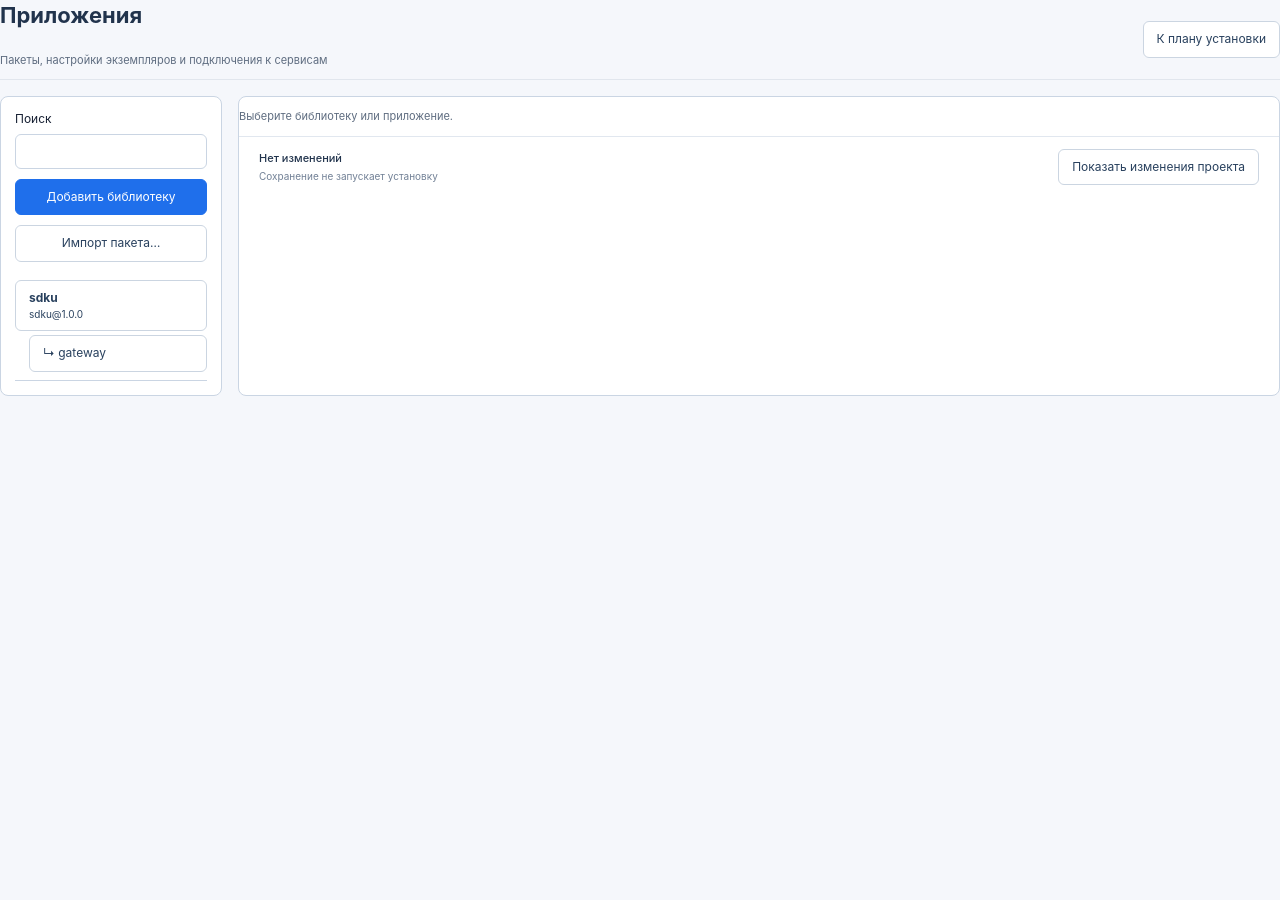
application editor › retains application package ENV declarations while common defaults await Core verification
Click the button "↳ gateway": (118, 353) [29, 335, 207, 372]
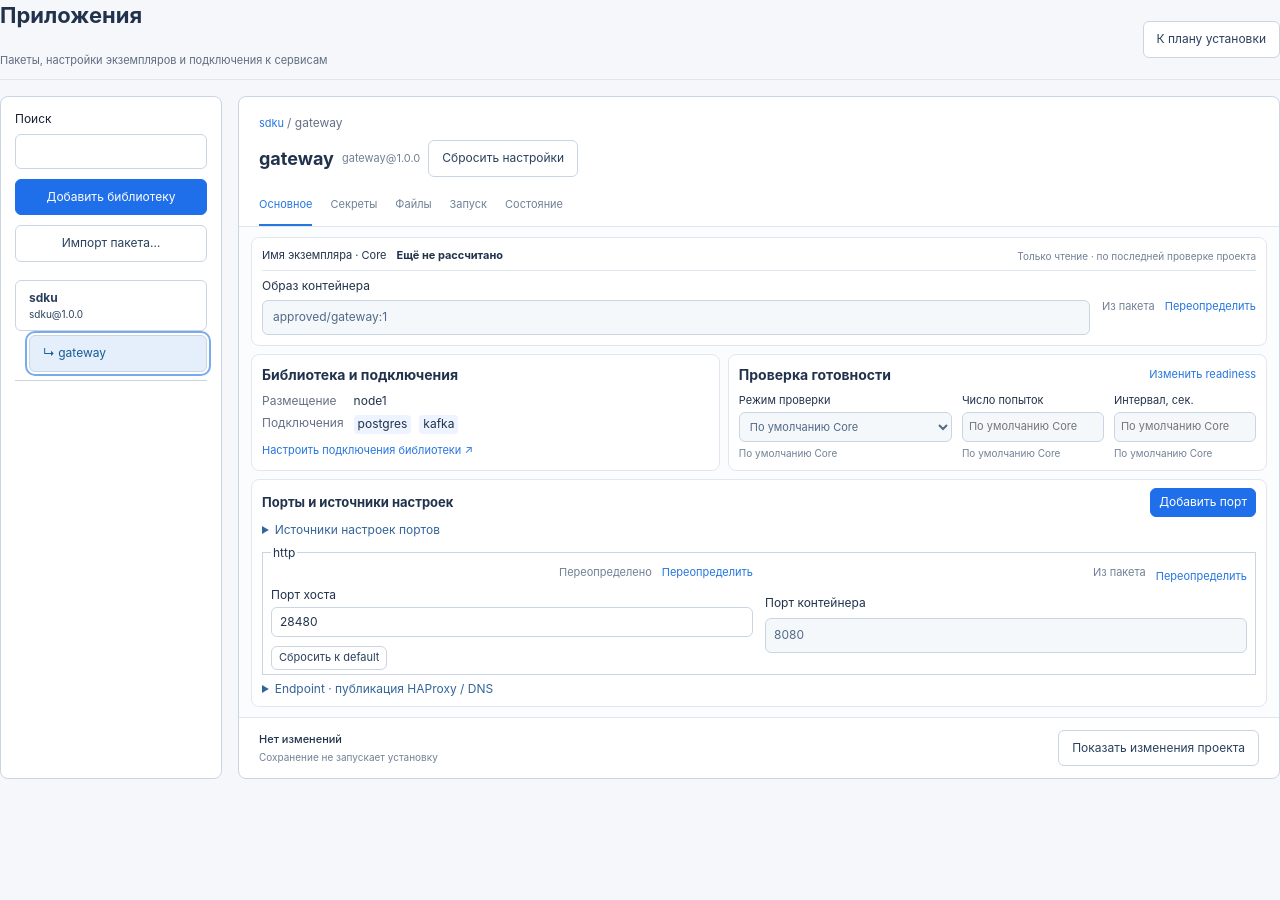
Click the button "Запуск": (468, 205) [450, 185, 487, 226]
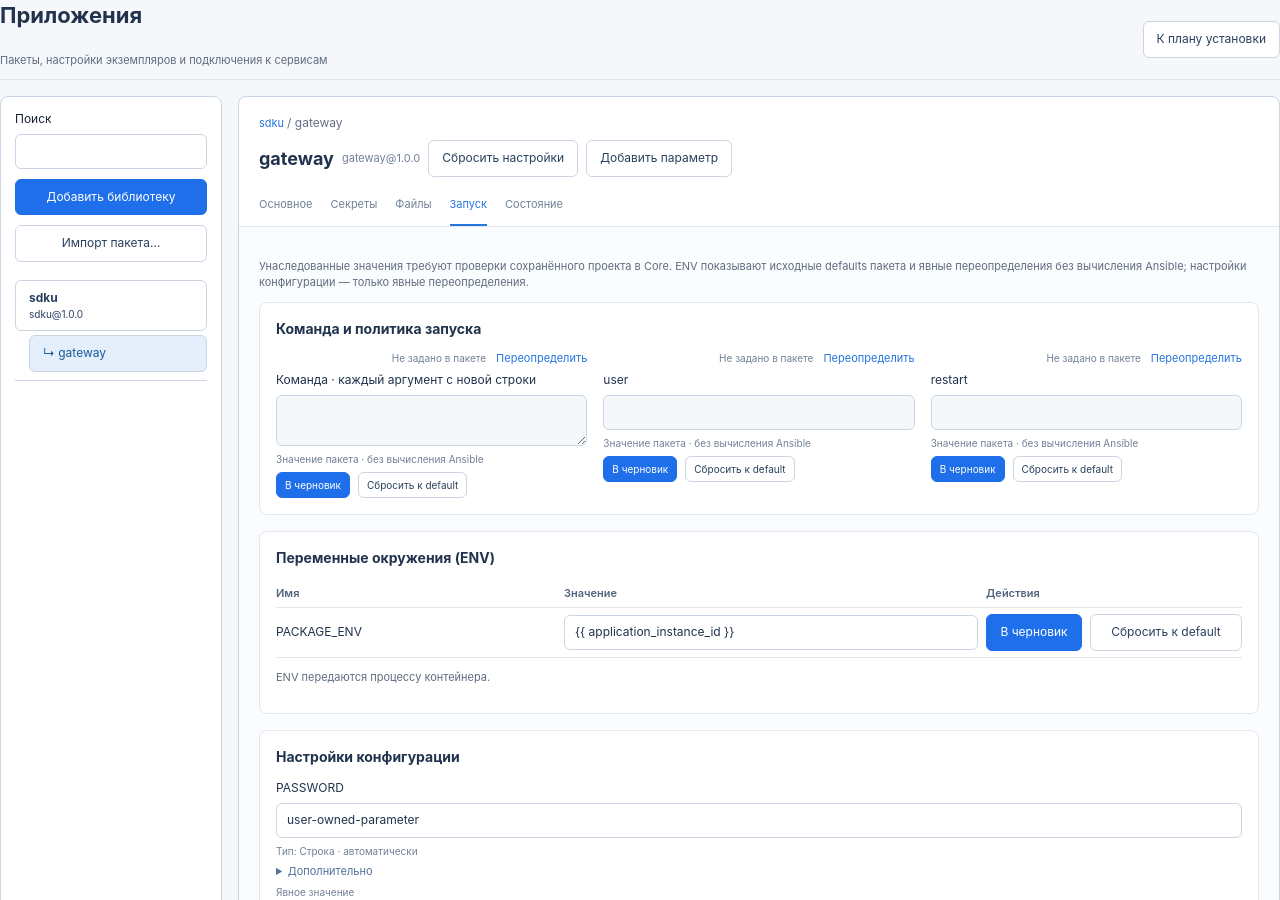
Expected: the field labelled "PACKAGE_ENV" holds "{{ application_instance_id }}", [564, 615, 978, 650]
Expected: the text "ENV показывают исходные defaults пакета" is shown, [259, 259, 1246, 290]
